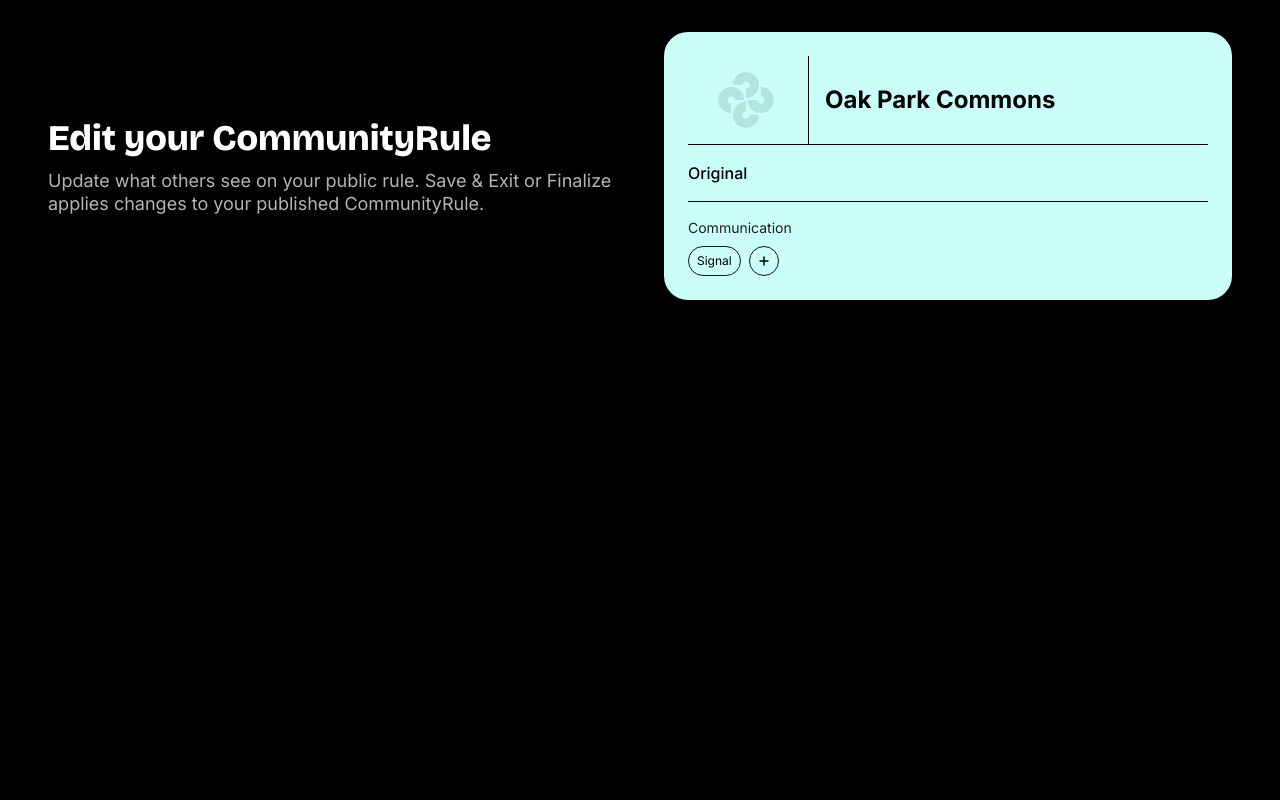
Test: FinalReviewScreen — edit published title and description › opens Save modal from description click and updates communityContext + summary
Click the button with test id "rule-description-edit" at (718, 173), box [688, 161, 1208, 185]
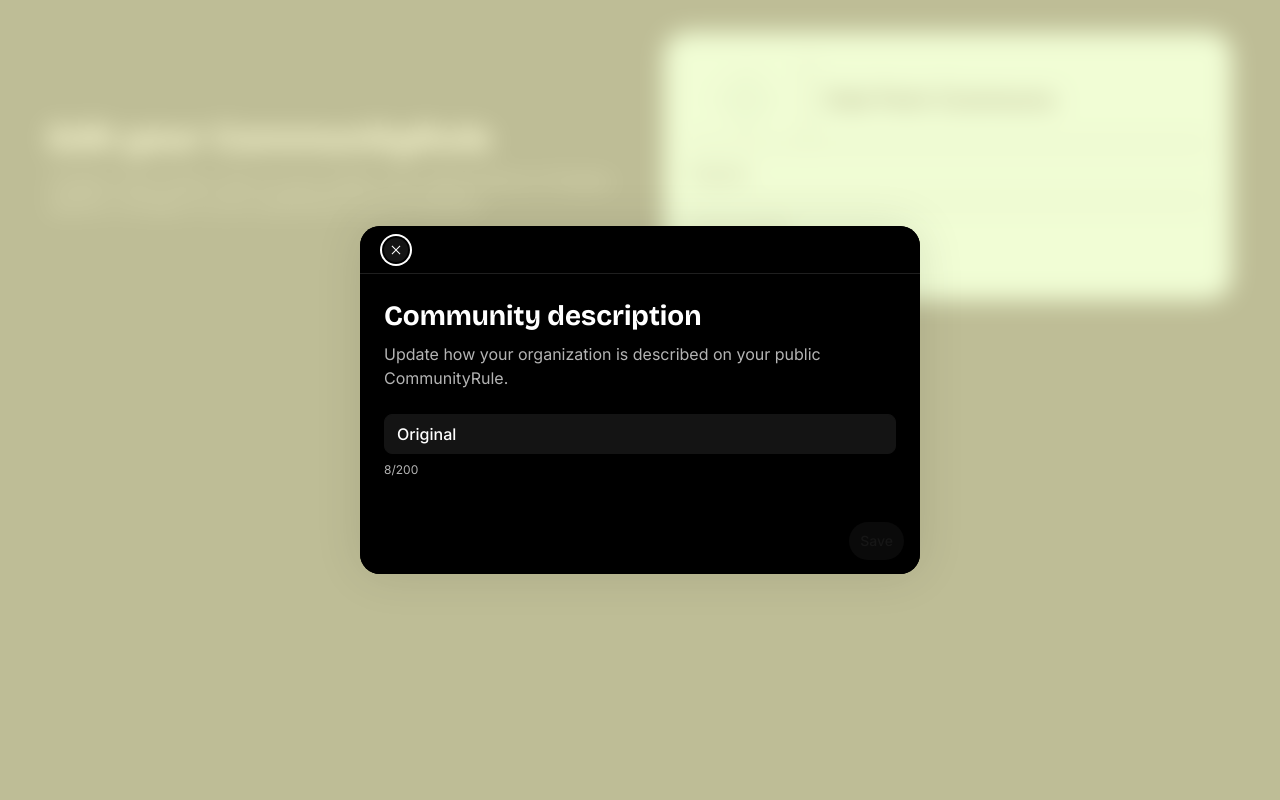
Now the heading "Community description" is shown, box [384, 298, 702, 334]
Replace the text in the field with "Updated copy" at (640, 434), box [384, 414, 896, 454]
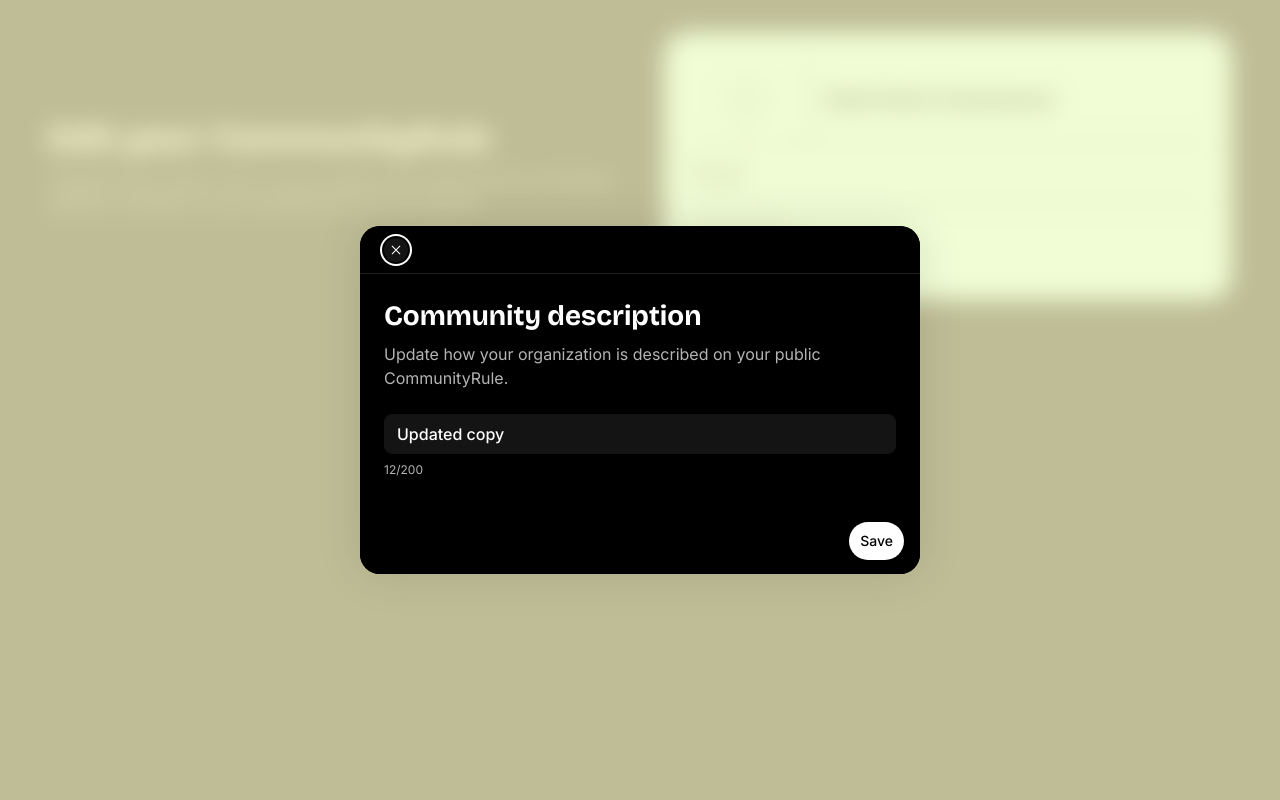
Click the button "Save" at (877, 541), box [849, 522, 904, 560]
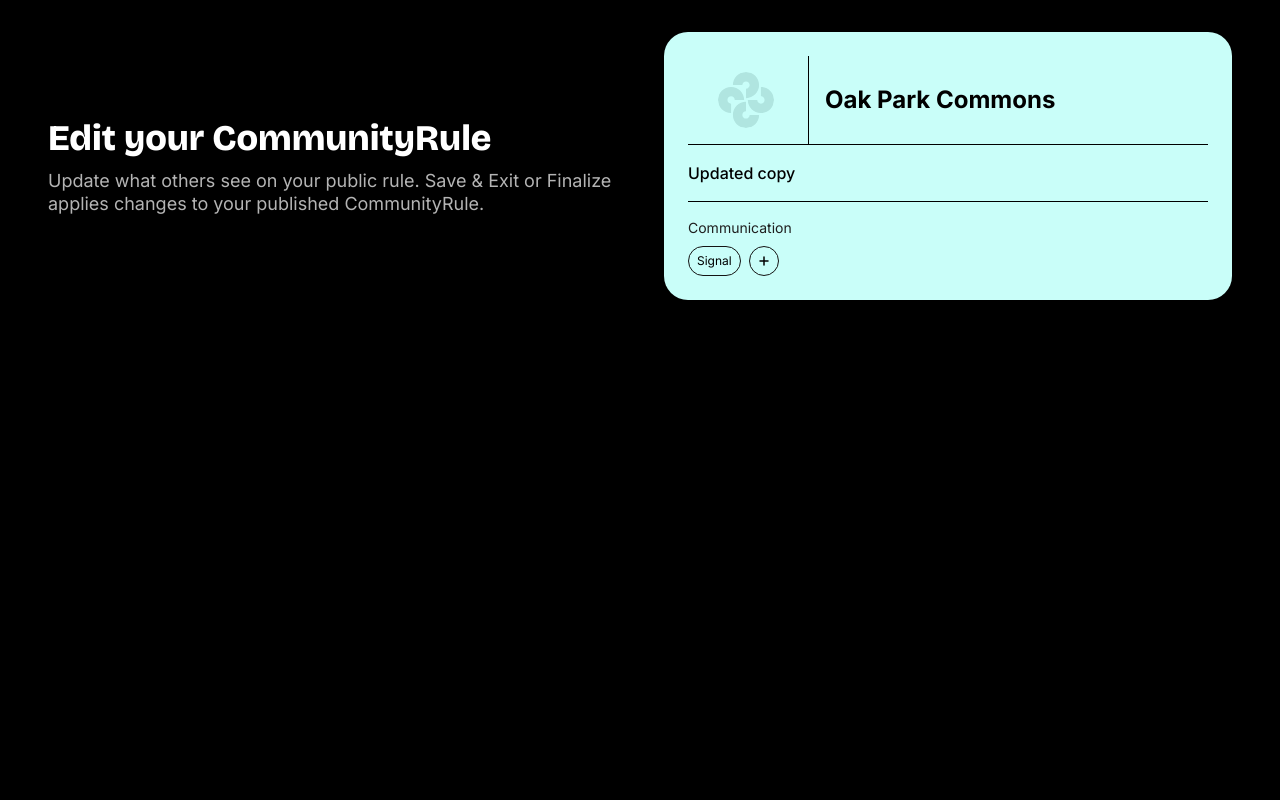
Now the dialog is gone
Now the button with test id "rule-description-edit" reads "Updated copy", box [688, 161, 1208, 185]
